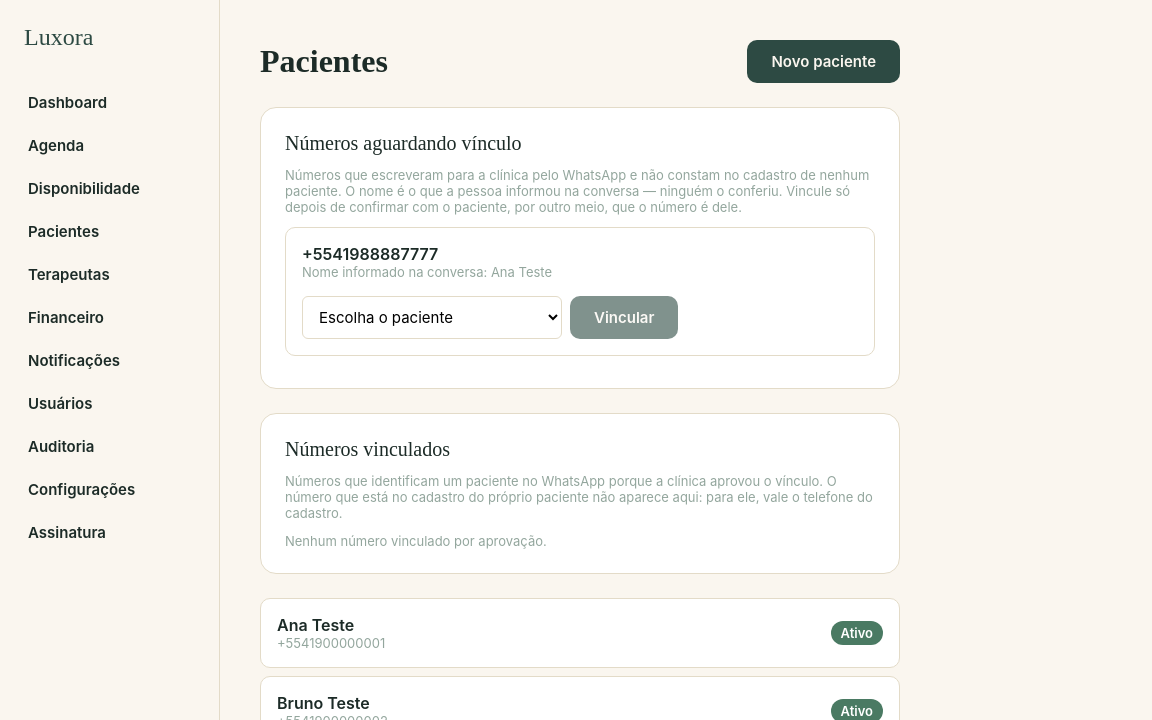
PacientesPage — números aguardando vínculo (ADR-0063, AD-038) › recusa da API: o motivo aparece na própria confirmação, nada é dado como vinculado e o número continua na lista
Expected: the text "+5541988887777" is shown, [302,244,438,264]
Expected: the text "Bruno Teste" is shown, [277,693,370,713]
Select "Ana Teste — +5541900000001" in the dropdown named "Paciente para o número +5541988887777" at (432, 318), box [302,296,562,339]
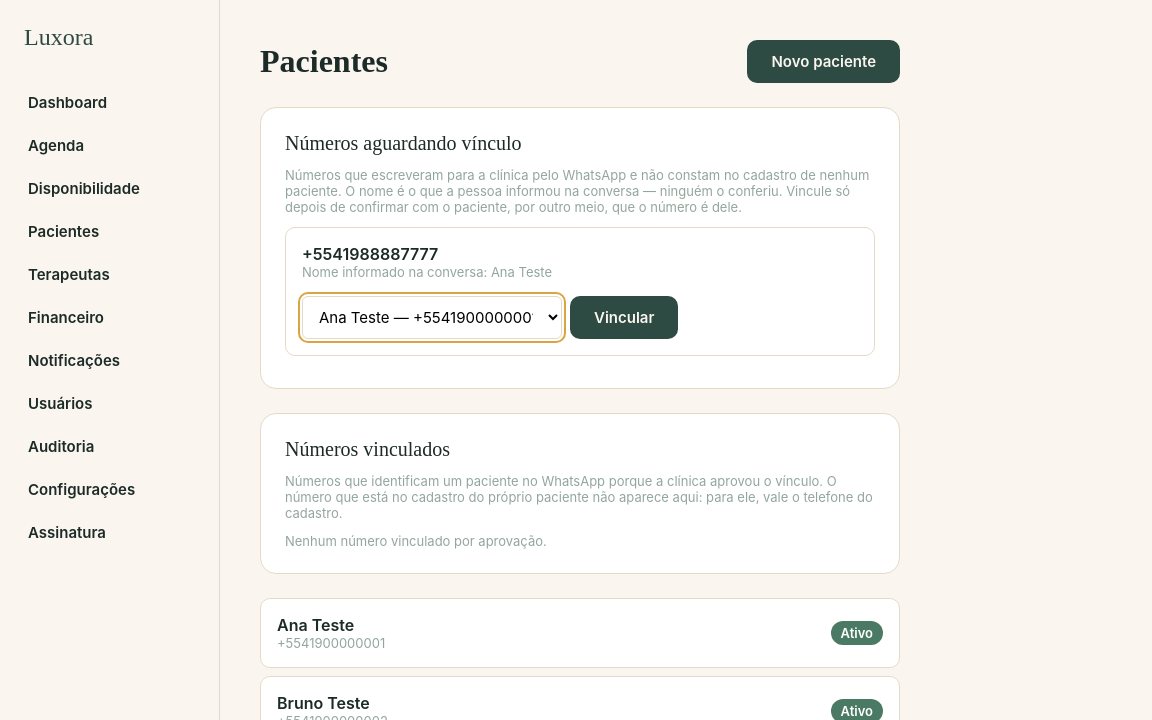
Click the button "Vincular" at (624, 318), box [570,296,678,339]
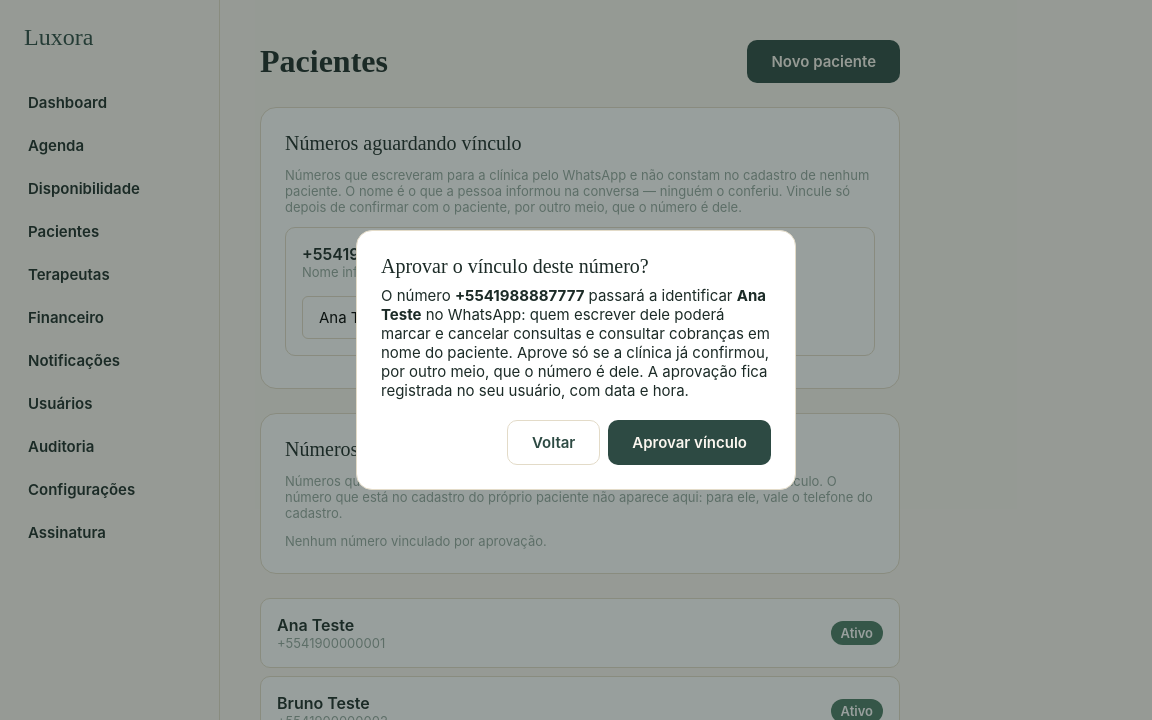
Click the button "Aprovar vínculo" at (690, 442), box [608,420,771,465]
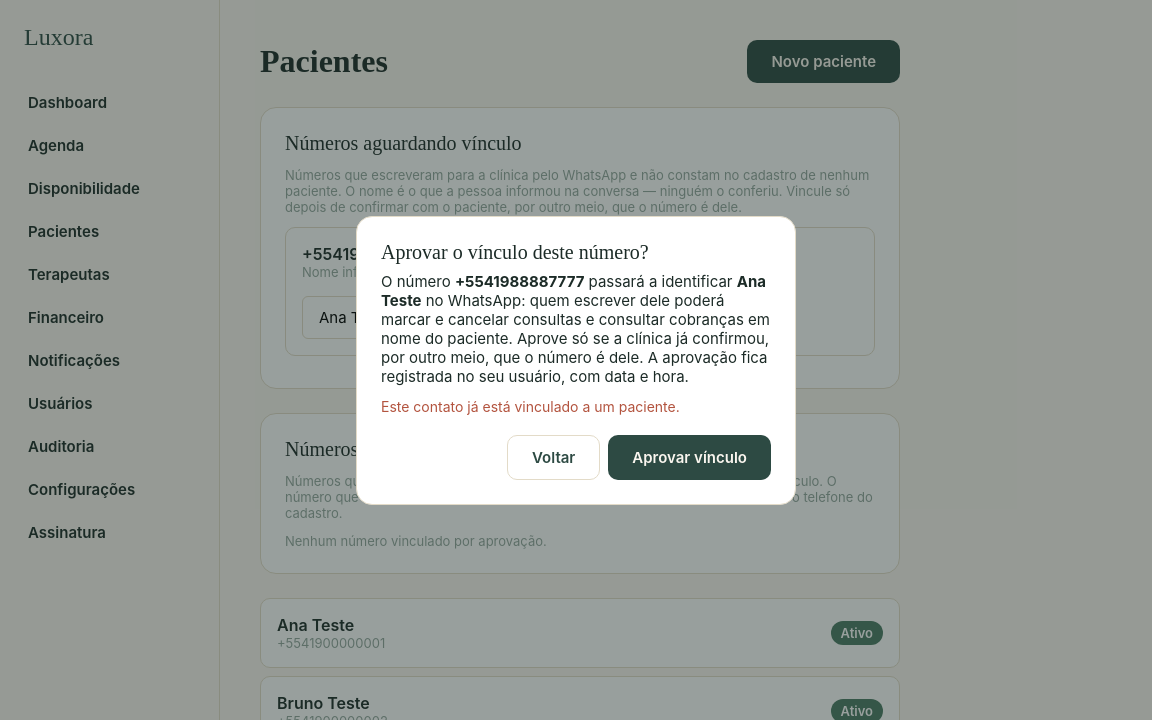
Now the message reads "Este contato já está vinculado a um paciente.", box [381,398,680,414]
